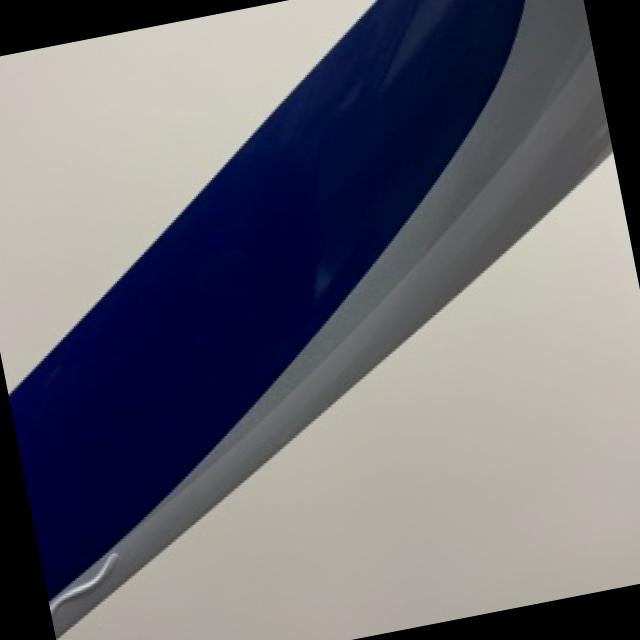healthy: (56, 153, 640, 640)
